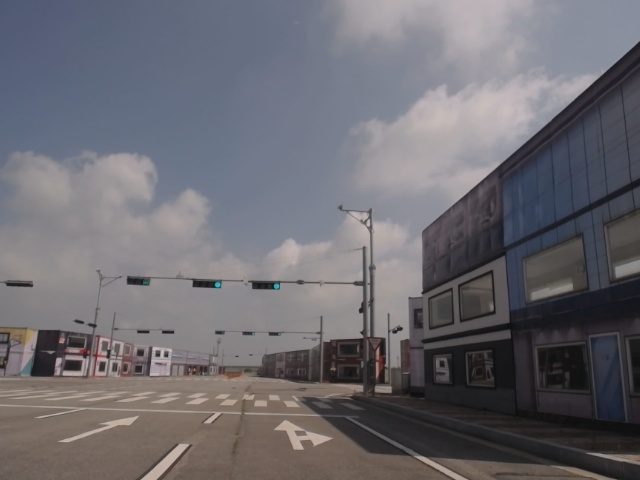straight_green_4: (191, 279, 222, 289), (251, 282, 281, 289)
